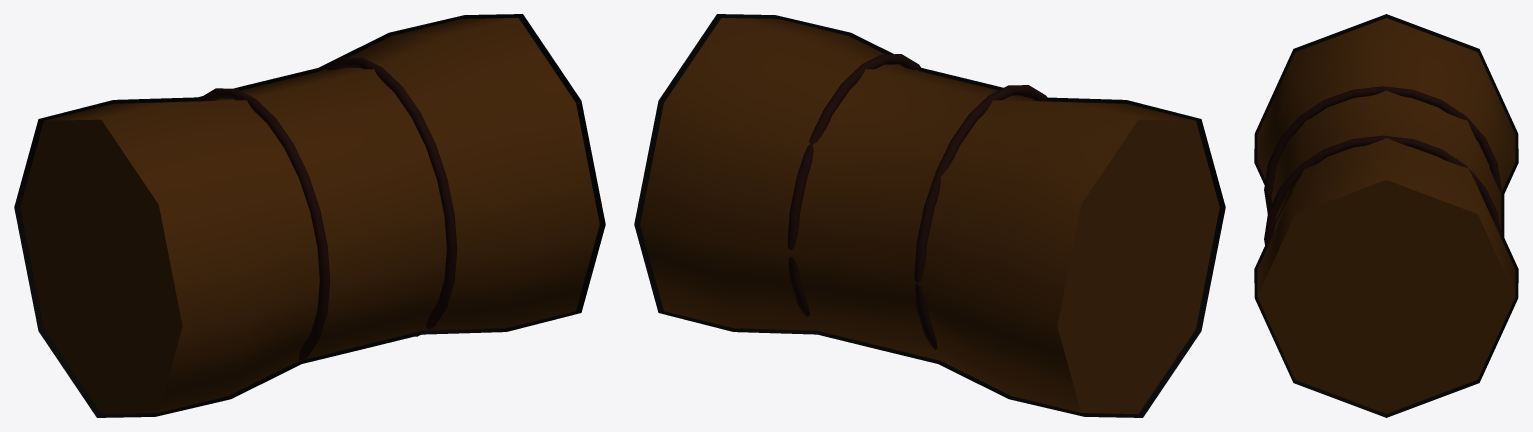
Rendered from Hay.FBX.
3 views of the same model, side by side, from view 1: azimuth 30°, elevation 25°; view 2: azimuth 150°, elevation 25°; view 3: azimuth 270°, elevation 25° (orthographic). The views are drawn at different scales.
Parts seen in each view (by area): view 1: Cylinder001, Cylinder002; view 2: Cylinder001, Cylinder002; view 3: Cylinder001, Cylinder002.
Part boxes in pixels (left/top/right/bottom): Cylinder001: left=20, top=18, right=599, bottom=413; Cylinder002: left=14, top=14, right=605, bottom=417; Cylinder001: left=640, top=18, right=1219, bottom=413; Cylinder002: left=634, top=14, right=1225, bottom=417; Cylinder001: left=1257, top=18, right=1515, bottom=413; Cylinder002: left=1254, top=14, right=1518, bottom=417.
Bounding box in the file's own units: 22.2 × 15.02 × 15.02.
